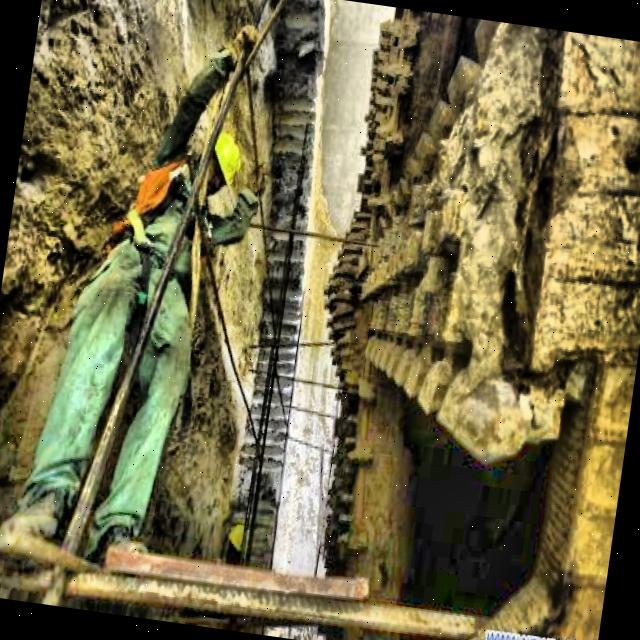helmet: (203, 127, 251, 201)
